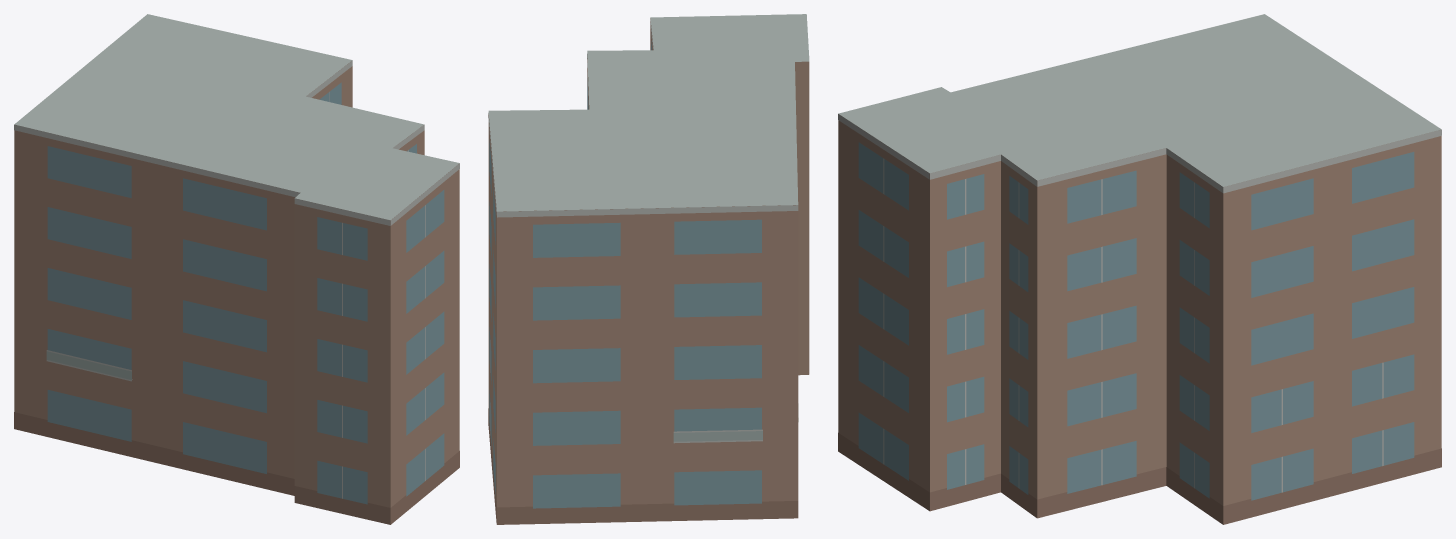
Rendered from survey-upis-33017471.glb.
3 views of the same model, side by side, from view 1: azimuth 30°, elevation 25°; view 2: azimuth 150°, elevation 25°; view 3: azimuth 270°, elevation 25° (orthographic). The views are drawn at different scales.
Parts seen in each view (by area): view 1: survey-upis-33017471.tmp; view 2: survey-upis-33017471.tmp; view 3: survey-upis-33017471.tmp.
Boxes of the visible parts, bbox=[...] form: survey-upis-33017471.tmp: bbox=[14, 14, 459, 524]; survey-upis-33017471.tmp: bbox=[488, 14, 809, 524]; survey-upis-33017471.tmp: bbox=[838, 14, 1441, 524].
Bounding box in the file's own units: 14.24 × 12.95 × 20.98.
